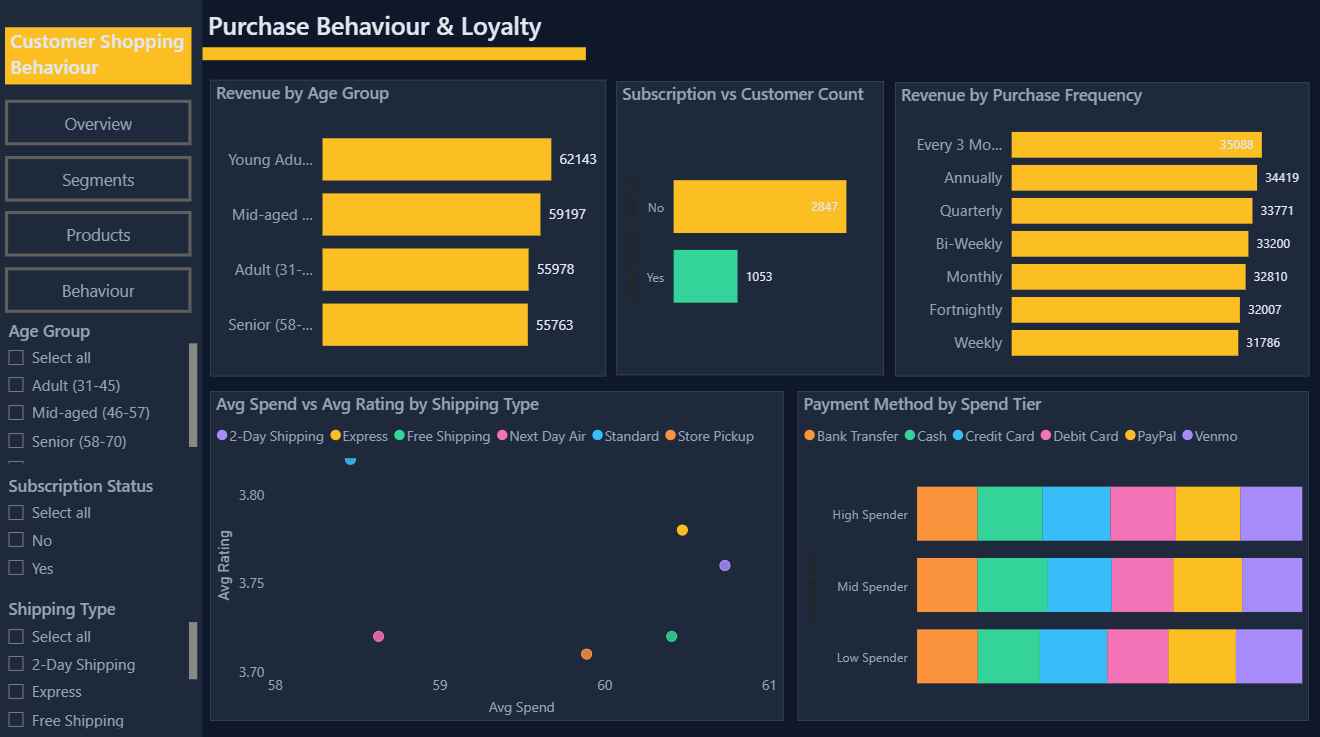

This screenshot's page, from the dashboard's own definition file:
{"tool":"powerbi","page":{"name":"Behaviour","canvas":[1280,720],"ordinal":3},"visuals":[{"type":"textbox","box":[0,0,200,720],"z":0},{"type":"actionButton","title":"Overview","box":[10,100,180,44],"z":1000},{"type":"actionButton","title":"Segments","box":[10,154,180,44],"z":2000},{"type":"actionButton","title":"Products","box":[10,208,180,44],"z":3000},{"type":"actionButton","title":"Behaviour","box":[10,262,180,44],"z":4000},{"type":"textbox","title":"Customer Shopping Behaviour","box":[9.7,30.2,179.8,55.5],"z":5000},{"type":"textbox","box":[200,7.5,332.5,50],"z":6000},{"type":"shape","box":[200,50,370,12.5],"z":7000},{"type":"clusteredBarChart","title":"Revenue by Age Group","fields":{"Category":["customer_behaviour customer.age_group"],"Y":["_Measures (3).Total Revenue"]},"box":[207.5,81.2,382.5,286.2],"z":8000},{"type":"clusteredBarChart","title":"Subscription vs Customer Count","fields":{"Category":["customer_behaviour customer.subscription_status"],"Y":["_Measures (3).Total Customers"]},"box":[600,82.5,258.8,283.8],"z":9000},{"type":"hundredPercentStackedBarChart","title":"Payment Method by Spend Tier","fields":{"Category":["customer_behaviour customer.spend_tier"],"Y":["_Measures (3).Total Customers"],"Series":["customer_behaviour customer.payment_method"]},"box":[775,381.2,493.8,318.8],"z":10000},{"type":"scatterChart","title":"Avg Spend vs Avg Rating by Shipping Type","fields":{"Category":["customer_behaviour customer.shipping_type"],"Y":["_Measures (3).Avg Rating"],"X":["_Measures (3).Avg Spend"],"Series":["customer_behaviour customer.shipping_type"]},"box":[207.5,381.2,553.8,318.8],"z":11000},{"type":"clusteredBarChart","title":"Revenue by Purchase Frequency","fields":{"Category":["customer_behaviour customer.frequency_of_purchases"],"Y":["_Measures (3).Total Revenue"]},"box":[868.8,83.8,400,283.8],"z":12000},{"type":"slicer","fields":{"Values":["customer_behaviour customer.age_group"]},"box":[0,306.2,200,150],"z":13000},{"type":"slicer","fields":{"Values":["customer_behaviour customer.subscription_status"]},"box":[0,456.2,200,117.5],"z":14000},{"type":"slicer","fields":{"Values":["customer_behaviour customer.shipping_type"]},"box":[0,575,200,136.2],"z":15000}]}

Visuals, with their boxes in screenshot pixels (x1, y1, x2, y2), scaled from the page's 1280x720 canvas onto the 1320x737 screenshot:
textbox: locate(0, 0, 206, 736)
"Overview" actionButton: locate(10, 102, 196, 147)
"Segments" actionButton: locate(10, 158, 196, 203)
"Products" actionButton: locate(10, 213, 196, 258)
"Behaviour" actionButton: locate(10, 268, 196, 313)
"Customer Shopping Behaviour" textbox: locate(10, 31, 195, 88)
textbox: locate(206, 8, 549, 59)
shape: locate(206, 51, 588, 64)
"Revenue by Age Group" clusteredBarChart: locate(214, 83, 608, 376)
"Subscription vs Customer Count" clusteredBarChart: locate(619, 84, 886, 375)
"Payment Method by Spend Tier" hundredPercentStackedBarChart: locate(799, 390, 1308, 717)
"Avg Spend vs Avg Rating by Shipping Type" scatterChart: locate(214, 390, 785, 717)
"Revenue by Purchase Frequency" clusteredBarChart: locate(896, 86, 1308, 376)
slicer - customer_behaviour customer.age_group: locate(0, 313, 206, 467)
slicer - customer_behaviour customer.subscription_status: locate(0, 467, 206, 587)
slicer - customer_behaviour customer.shipping_type: locate(0, 589, 206, 728)
